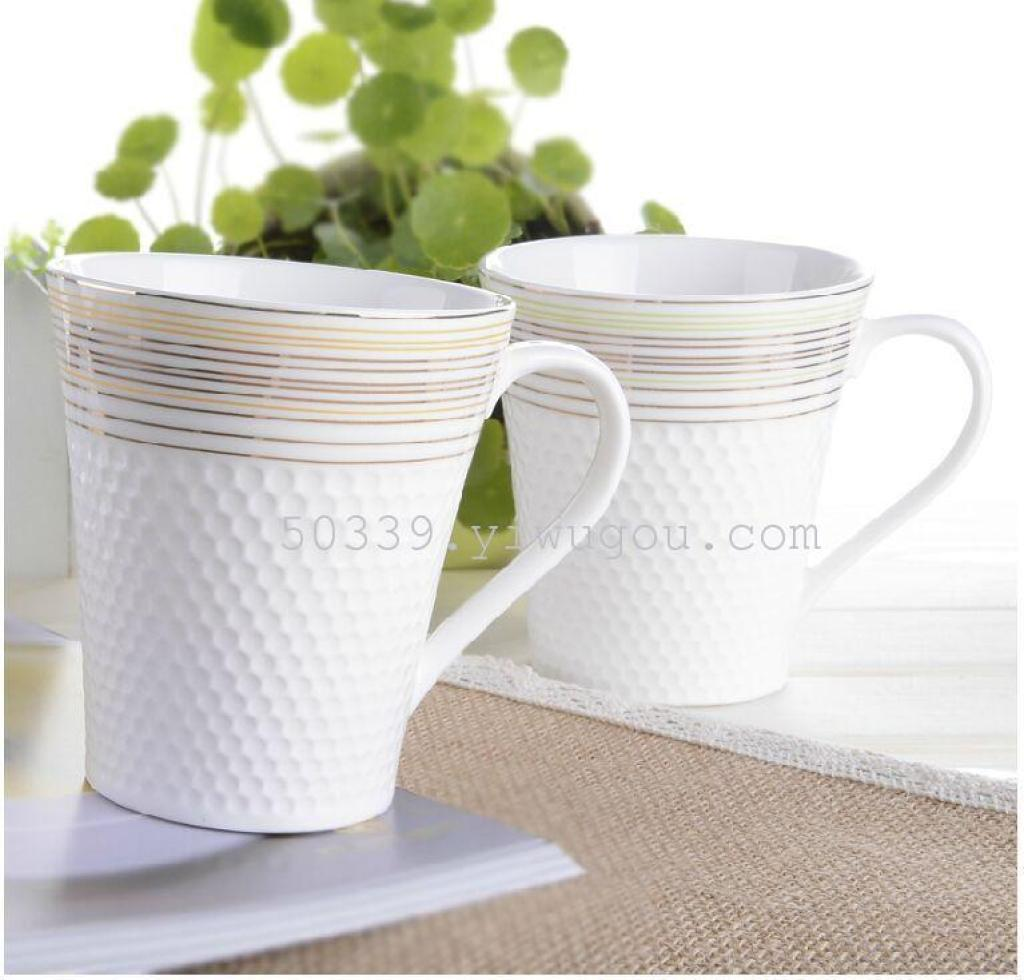cup: (33, 237, 631, 861), (477, 225, 996, 740)
